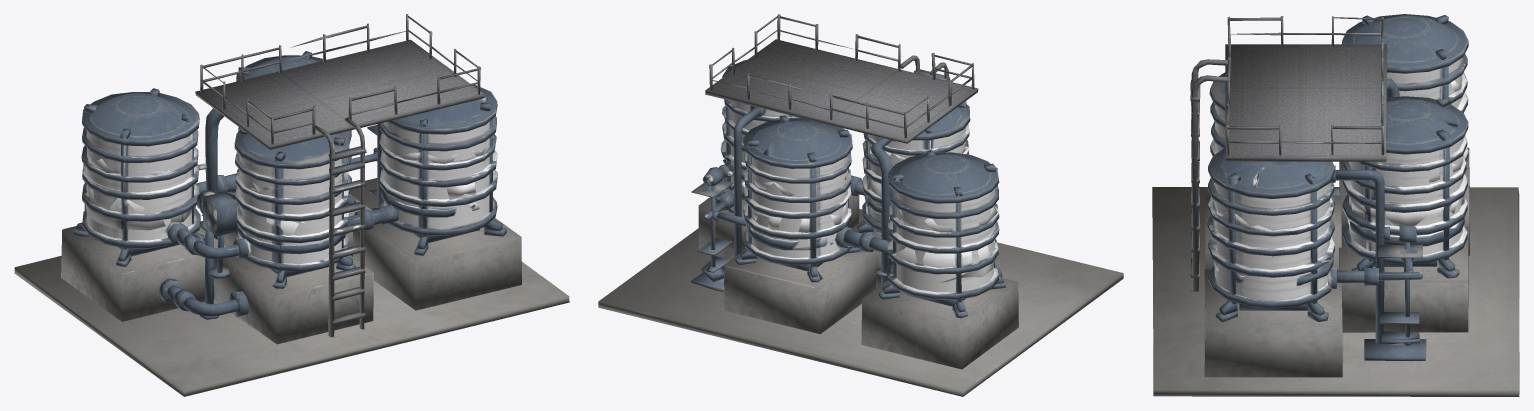
The model's file is Su Deposu.fbx.
The picture shows the model from 3 angles, left to right: view 1: azimuth 30°, elevation 25°; view 2: azimuth 150°, elevation 25°; view 3: azimuth 270°, elevation 25°; orthographic projection. The views are drawn at different scales.
Visible parts, largest first — view 1: Mesh_0; view 2: Mesh_0; view 3: Mesh_0.
Part boxes in pixels (bbox=[...]): Mesh_0: bbox=[14, 14, 569, 396]; Mesh_0: bbox=[598, 14, 1123, 396]; Mesh_0: bbox=[1152, 14, 1519, 396].
Size of the model in its own units: 100 by 55.78 by 76.45.
Materials: 1 (1 with a texture image).
